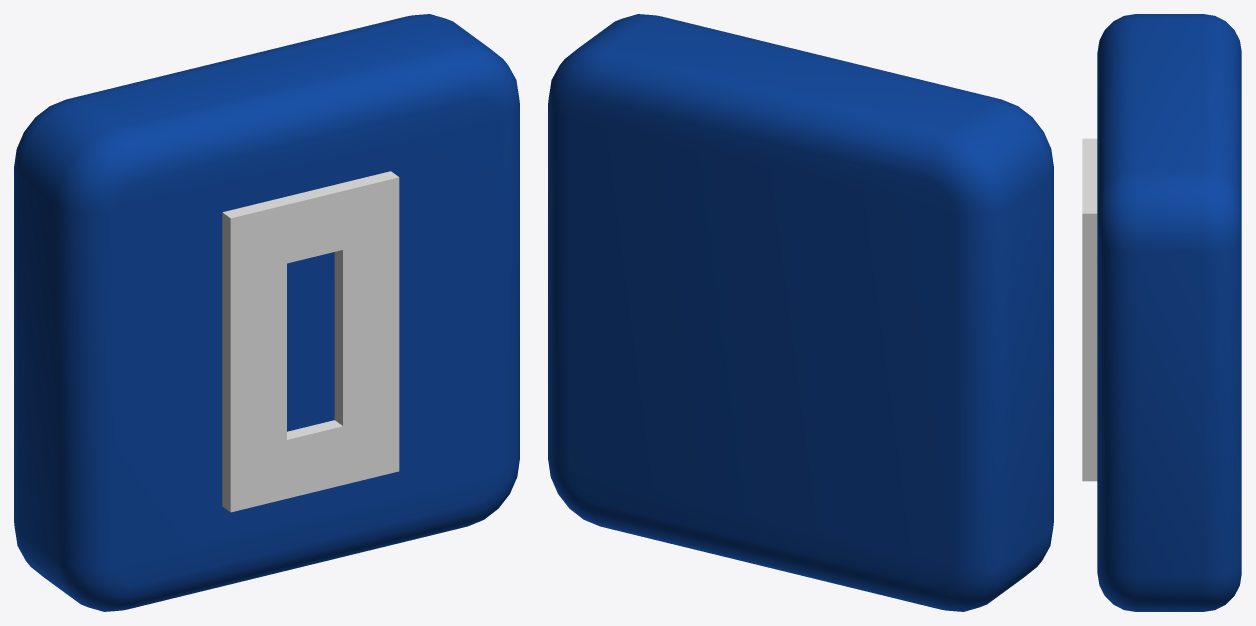
Rendered from keycap_0.glb.
The picture shows the model from 3 angles, left to right: view 1: azimuth 30°, elevation 25°; view 2: azimuth 150°, elevation 25°; view 3: azimuth 270°, elevation 25°; orthographic projection. The views are drawn at different scales.
Parts seen in each view (by area): view 1: Cube.6672, Cube.6671; view 2: Cube.6672; view 3: Cube.6672, Cube.6671.
Part boxes in pixels (x1,y1,x2,y2): Cube.6672: (14, 14, 519, 611); Cube.6671: (222, 171, 399, 512); Cube.6672: (548, 14, 1053, 611); Cube.6672: (1097, 14, 1241, 611); Cube.6671: (1082, 138, 1097, 481).
Size of the model in its own units: 2.2 by 2.2 by 0.73.
1 material, 1 textured.
